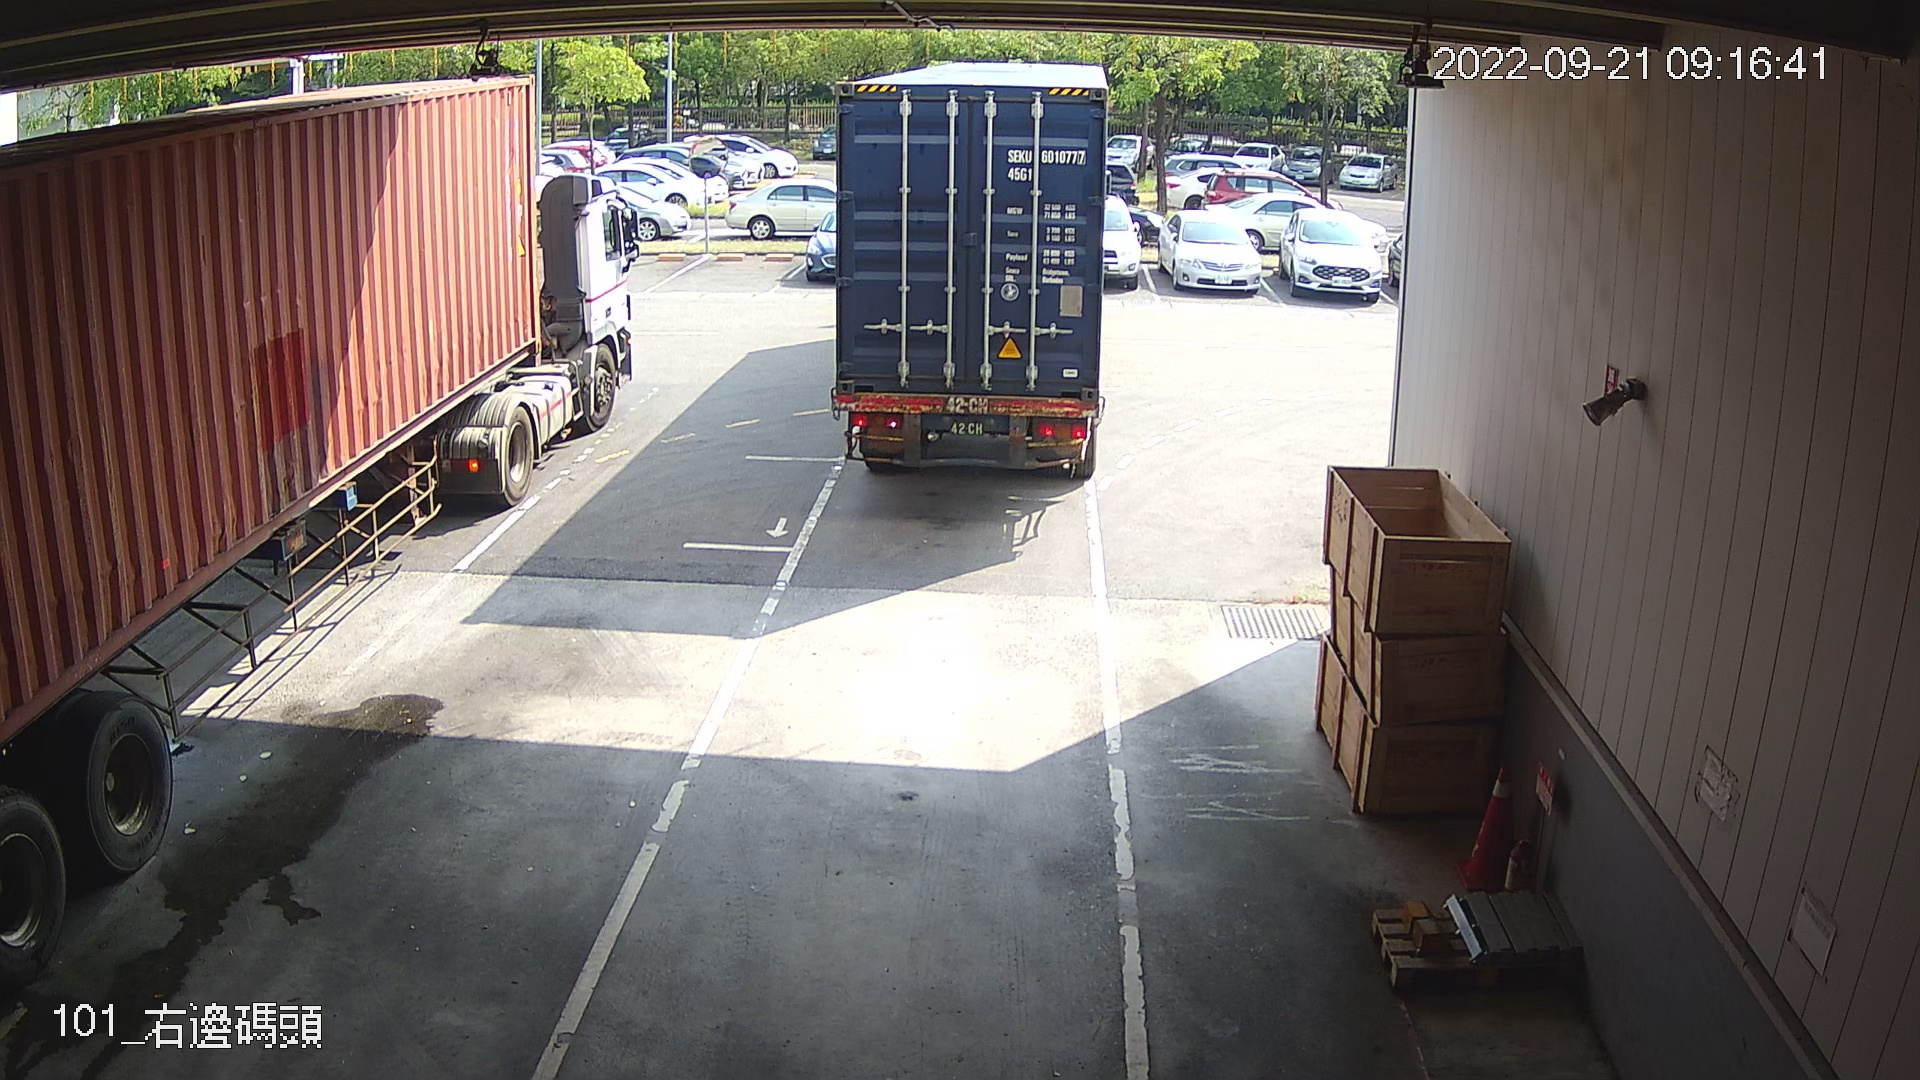container: (1004, 144, 1091, 189)
